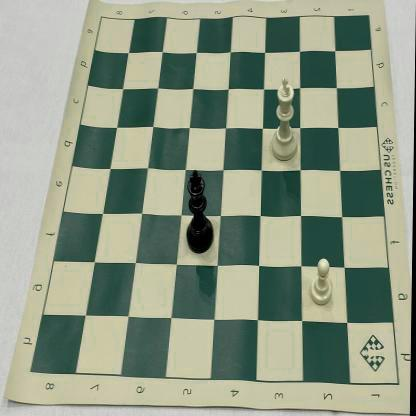black-king: (182, 166, 218, 256)
white-king: (270, 76, 301, 164)
white-pawn: (309, 255, 336, 308)
